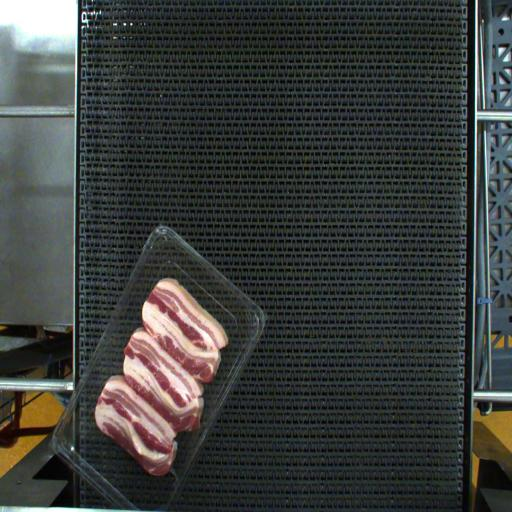packaging-error: (162, 466, 185, 502)
